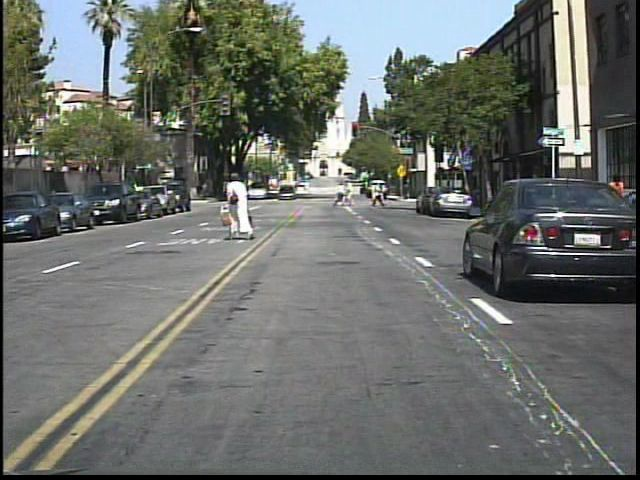person: (221, 169, 262, 247), (609, 167, 630, 230), (502, 168, 523, 219), (372, 178, 387, 210), (346, 179, 358, 209)
